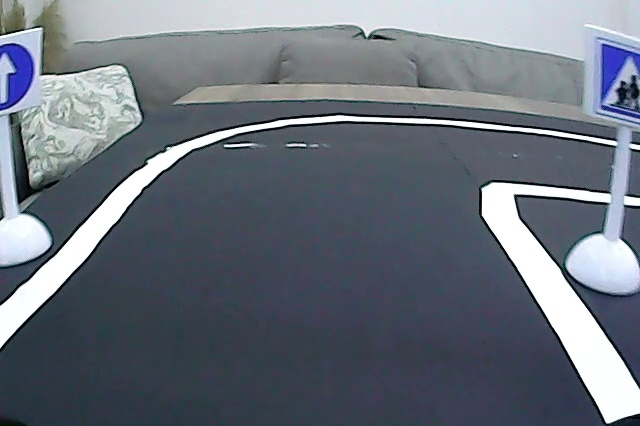school crossing: (592, 36, 640, 122)
